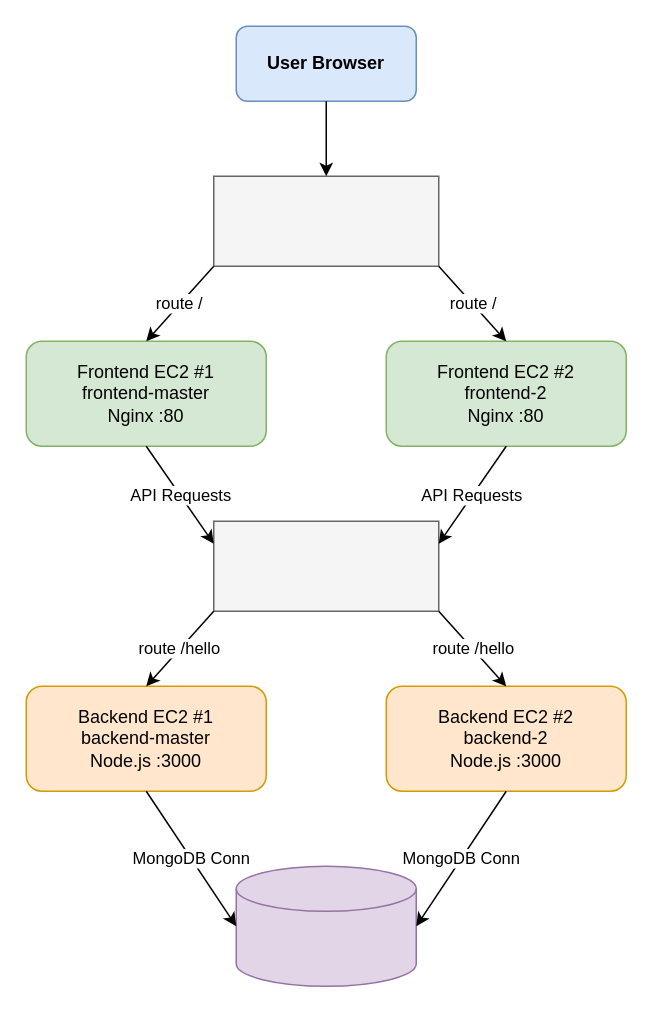
The diagram is 653 pixels wide and 1013 high, and some of its shapes have lost their labels. The shapes that lost their labels are listed below. From the top down, each one's centre as x and y in pixels, then its label:
At point 325,220: "Frontend ALB Listener HTTP :80".
At point 325,565: "Backend ALB Listener HTTP :80".
At point 325,925: "MongoDB Atlas Cloud Database".
